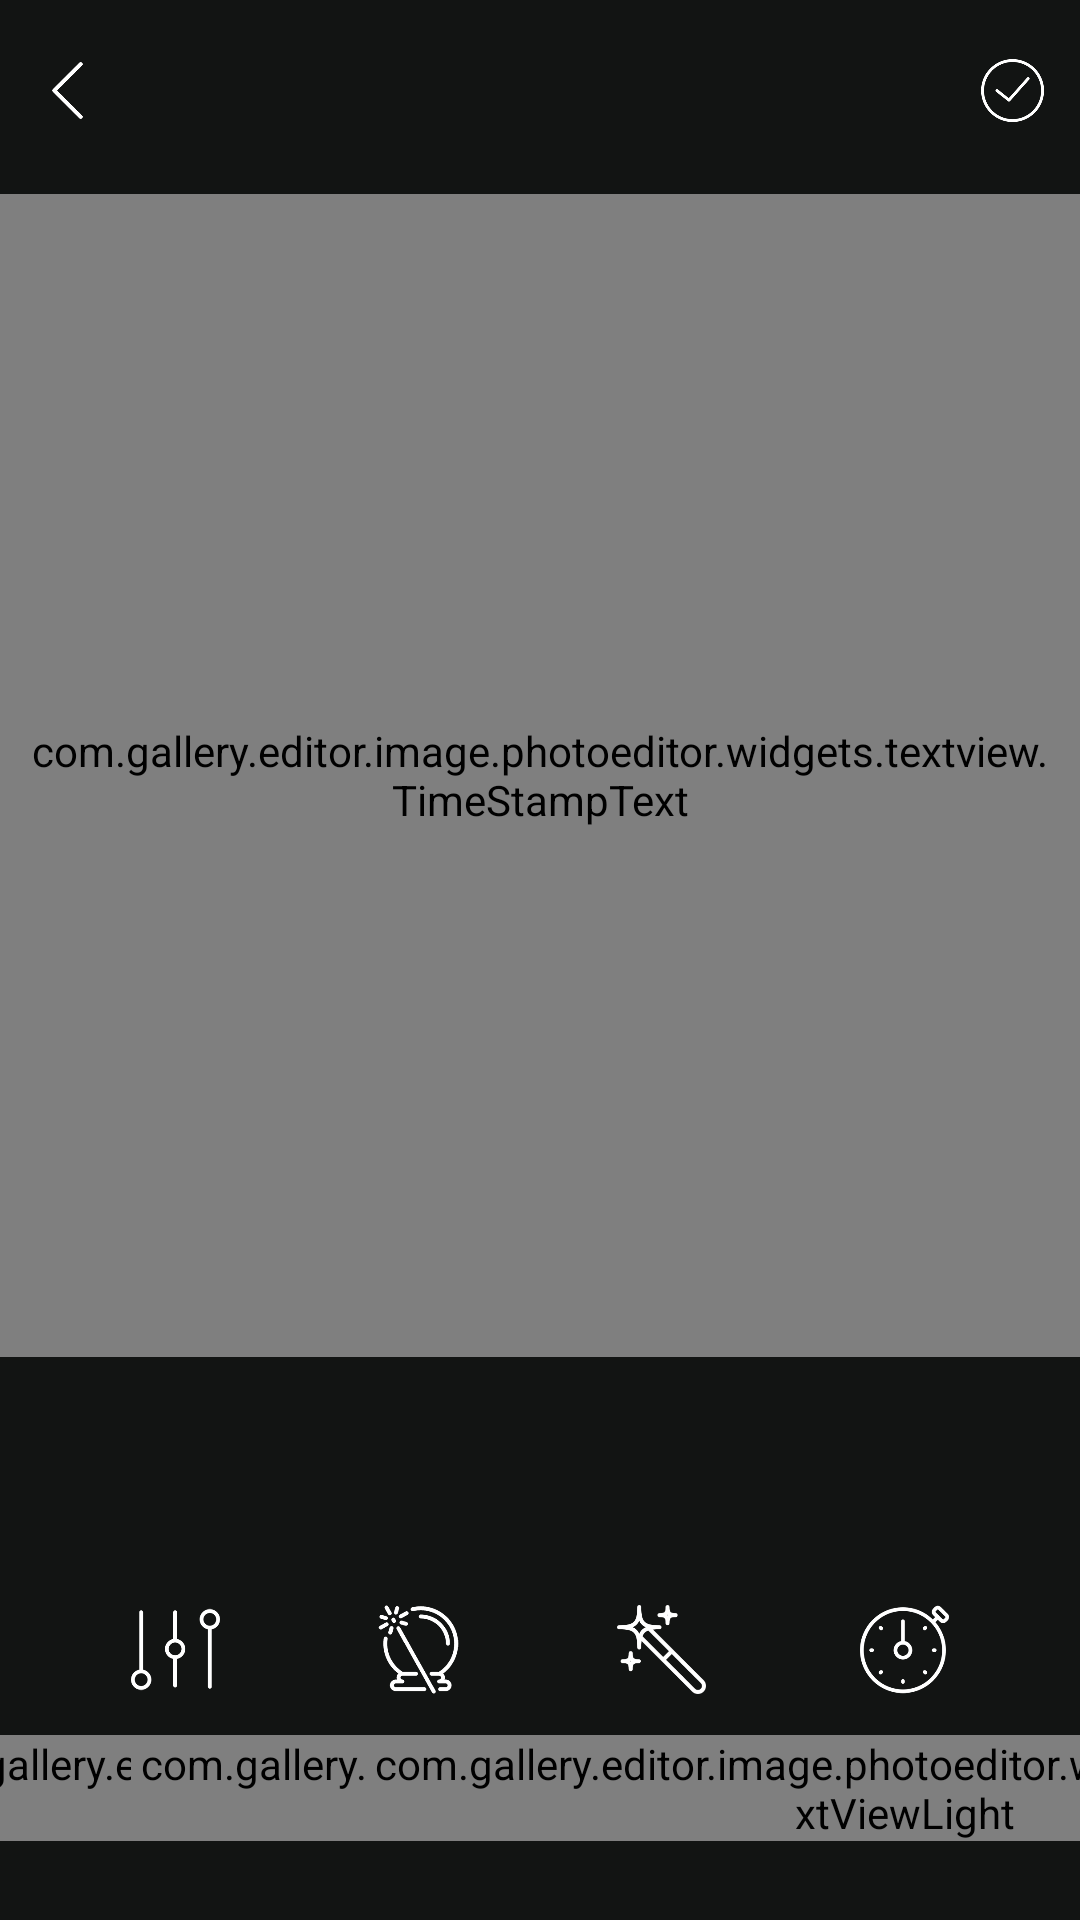

Screen size 1080 × 1920. Icon name, then its center in pixels as [x,y]:
adjust: [175,1649]
back: [67,90]
check: [1012,90]
timestamp: [904,1649]
